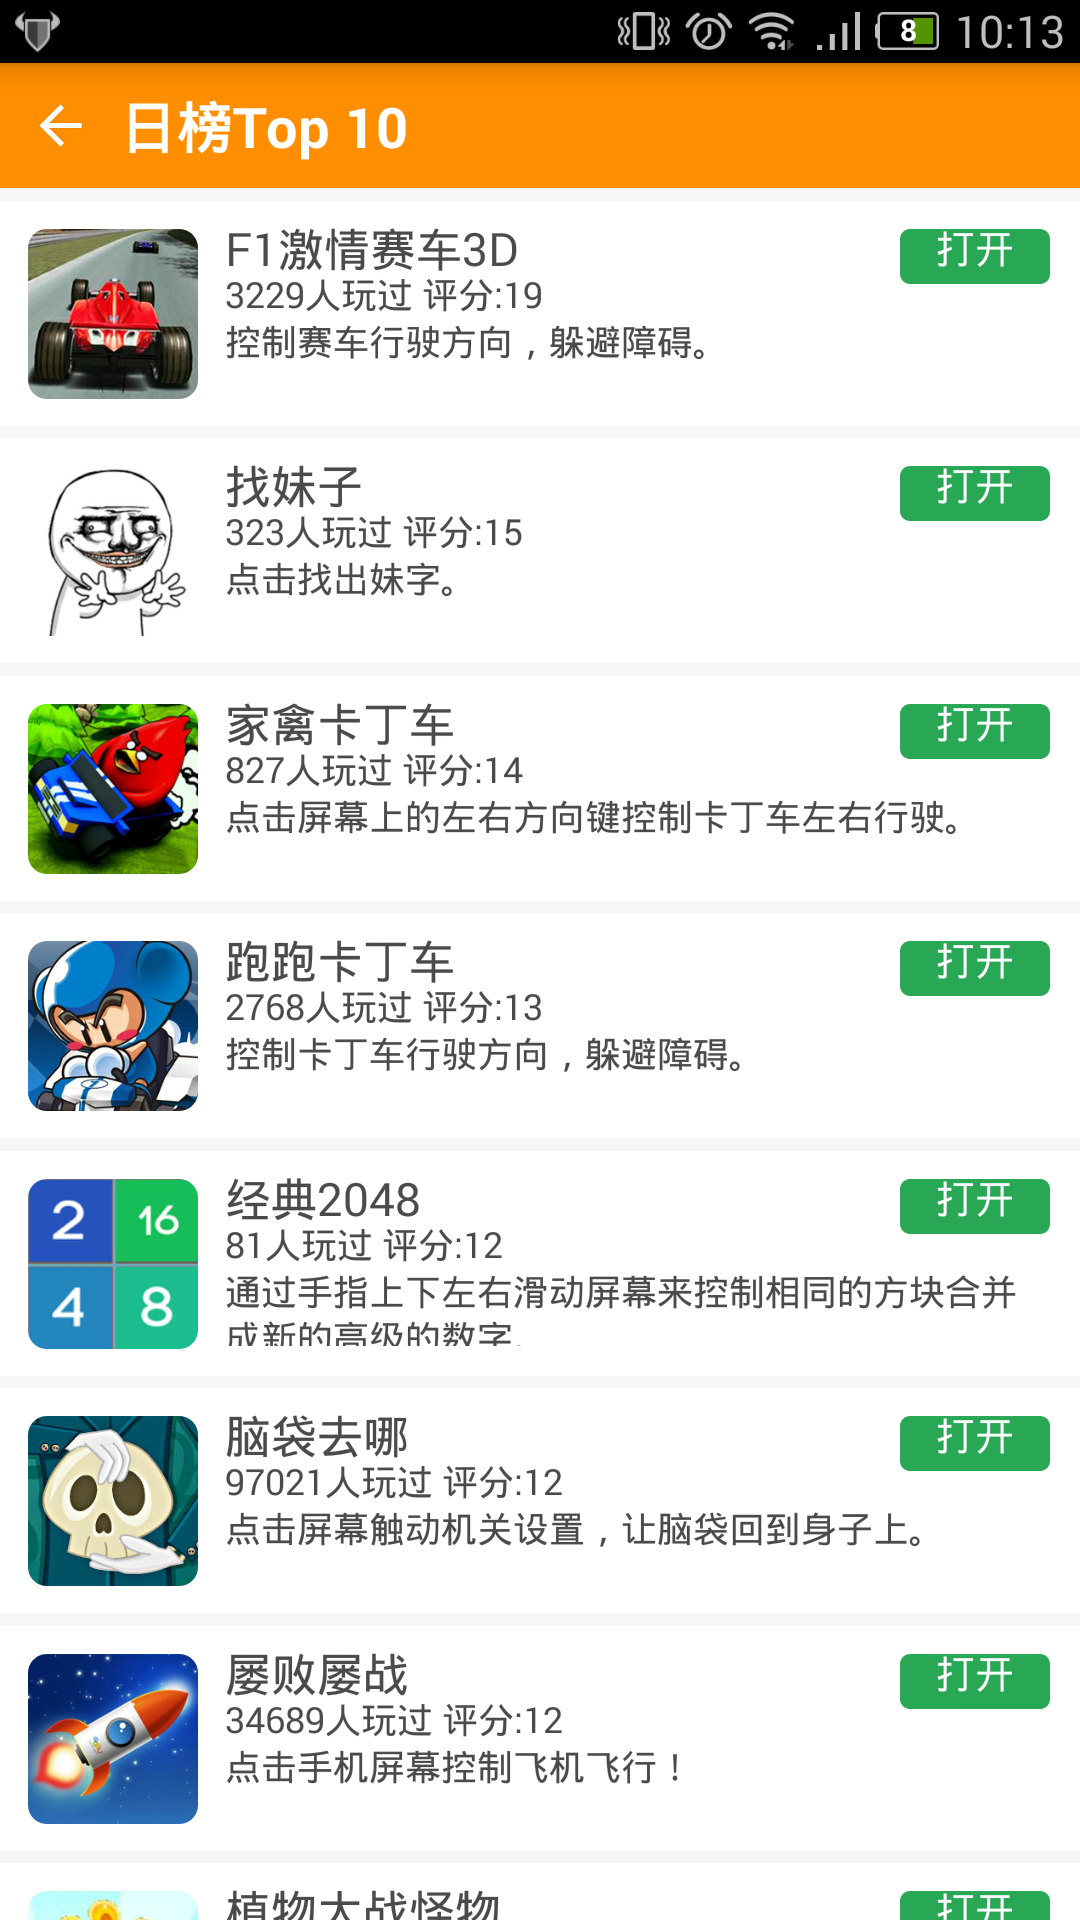button: (890, 223, 1073, 298)
imgview: (24, 231, 208, 404)
textview: (12, 194, 1080, 1867)
